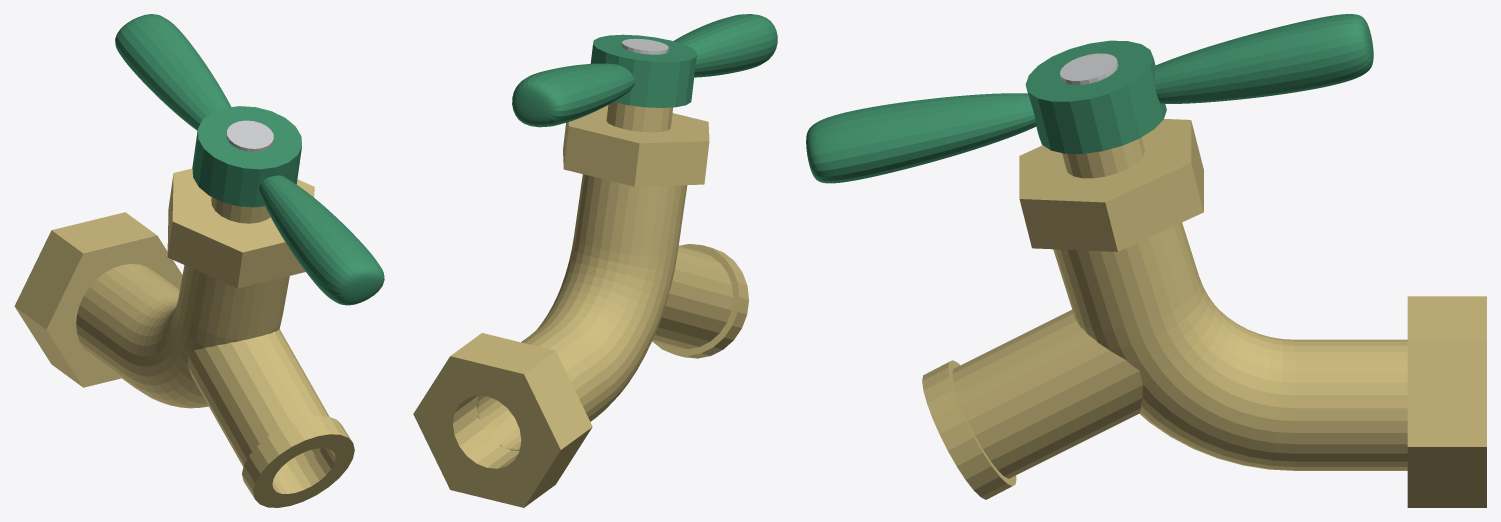
File: Hose Bib.glb
The picture shows the model from 3 angles, left to right: view 1: azimuth 30°, elevation 25°; view 2: azimuth 150°, elevation 25°; view 3: azimuth 270°, elevation 25°; orthographic projection. The views are drawn at different scales.
Parts seen in each view (by area): view 1: Mesh_Mesh_head_geo.001_lambert2SG.001; view 2: Mesh_Mesh_head_geo.001_lambert2SG.001; view 3: Mesh_Mesh_head_geo.001_lambert2SG.001.
Part boxes in pixels (x1=…): Mesh_Mesh_head_geo.001_lambert2SG.001: x1=14, y1=14, x2=384, y2=507; Mesh_Mesh_head_geo.001_lambert2SG.001: x1=413, y1=14, x2=777, y2=507; Mesh_Mesh_head_geo.001_lambert2SG.001: x1=806, y1=14, x2=1486, y2=507.
Size of the model in its own units: 32.33 by 79.95 by 104.
